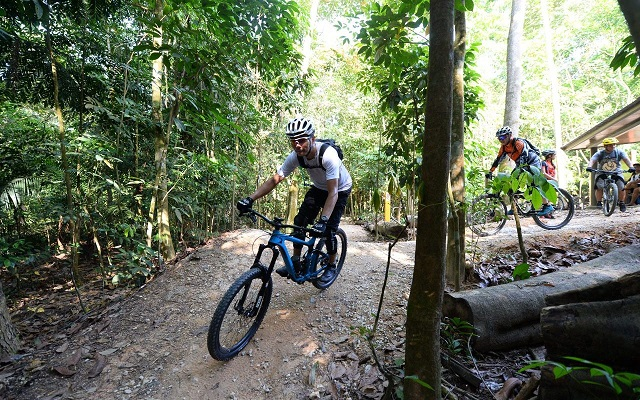bike: (215, 199, 347, 352), (468, 170, 575, 231), (584, 166, 631, 215)
person: (243, 117, 351, 274), (491, 123, 555, 217), (589, 138, 633, 210)
tree: (403, 2, 453, 400), (124, 2, 180, 247)
tree branches: (6, 116, 49, 172)
